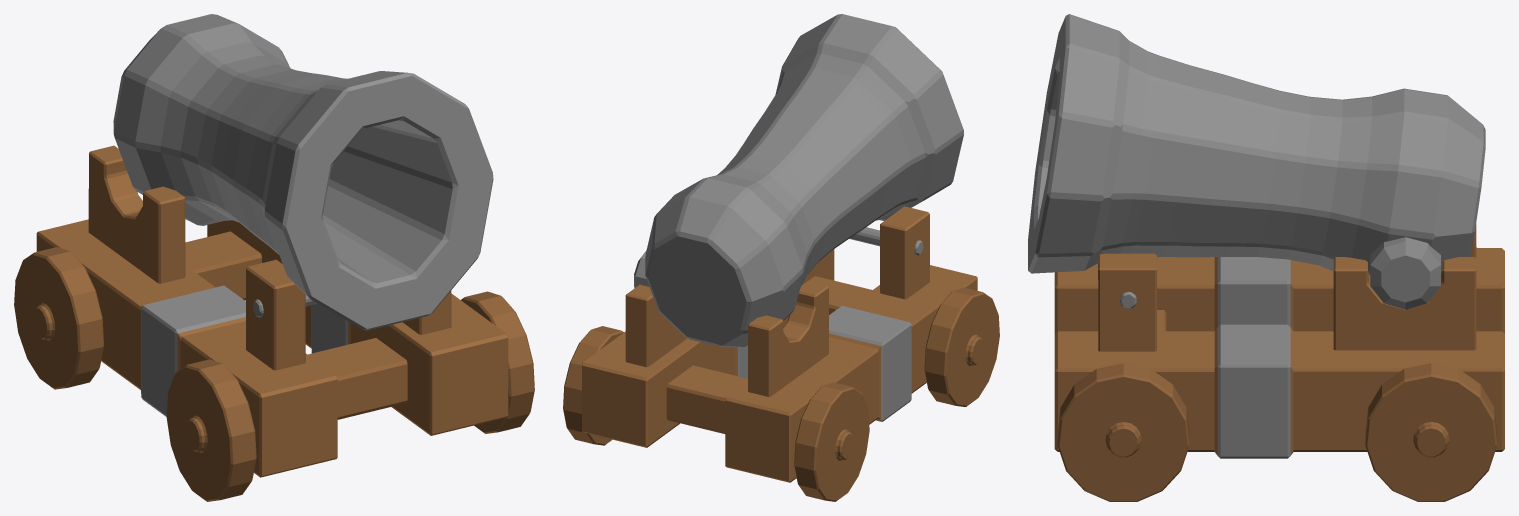
File: canon.fbx
3 views of the same model, side by side, from view 1: azimuth 30°, elevation 25°; view 2: azimuth 150°, elevation 25°; view 3: azimuth 270°, elevation 25° (orthographic). The views are drawn at different scales.
Visible parts, largest first — view 1: cannon; view 2: cannon; view 3: cannon.
Boxes of the visible parts, <box> form: cannon: <box>14,14,534,501</box>; cannon: <box>563,14,999,501</box>; cannon: <box>1028,14,1504,501</box>.
Bounding box in the file's own units: 274 × 331 × 357.
